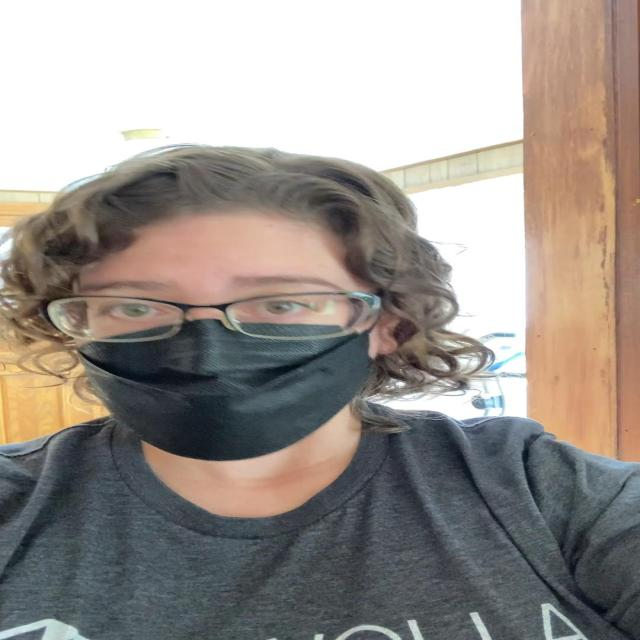no-helmet: (74, 210, 374, 458)
